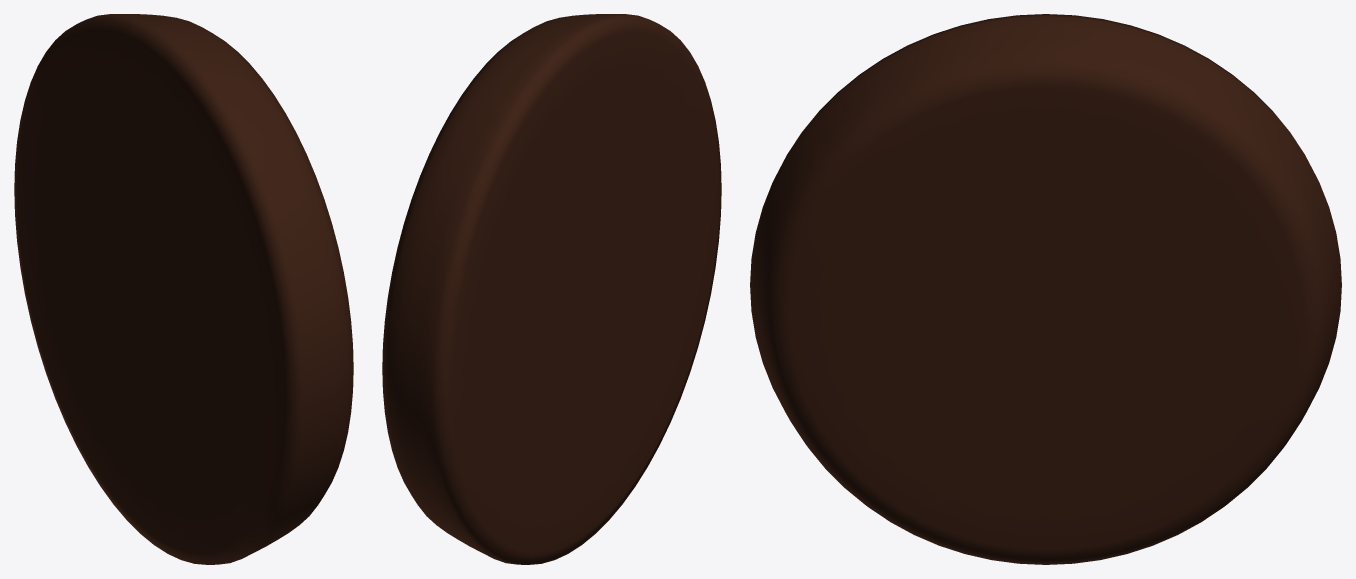
File: AirshipBalloonBelt.obj
3 renders of one model, left to right at view 1: azimuth 30°, elevation 25°; view 2: azimuth 150°, elevation 25°; view 3: azimuth 270°, elevation 25°, orthographic. The views are drawn at different scales.
Parts seen in each view (by area): view 1: BaloonBearing2 Baloon1 AirShipBasket1; view 2: BaloonBearing2 Baloon1 AirShipBasket1; view 3: BaloonBearing2 Baloon1 AirShipBasket1.
Boxes of the visible parts, box(x1,y1,x2,y2) form: BaloonBearing2 Baloon1 AirShipBasket1: box(14, 14, 353, 564); BaloonBearing2 Baloon1 AirShipBasket1: box(382, 14, 721, 564); BaloonBearing2 Baloon1 AirShipBasket1: box(750, 14, 1341, 564).
Size of the model in its own units: 6.4 by 40.37 by 40.37.
